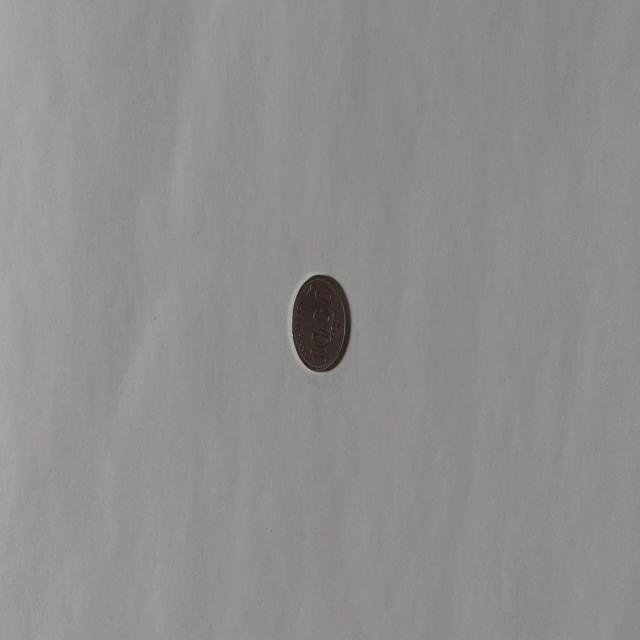seribu rupiah koin: (289, 272, 349, 374)
